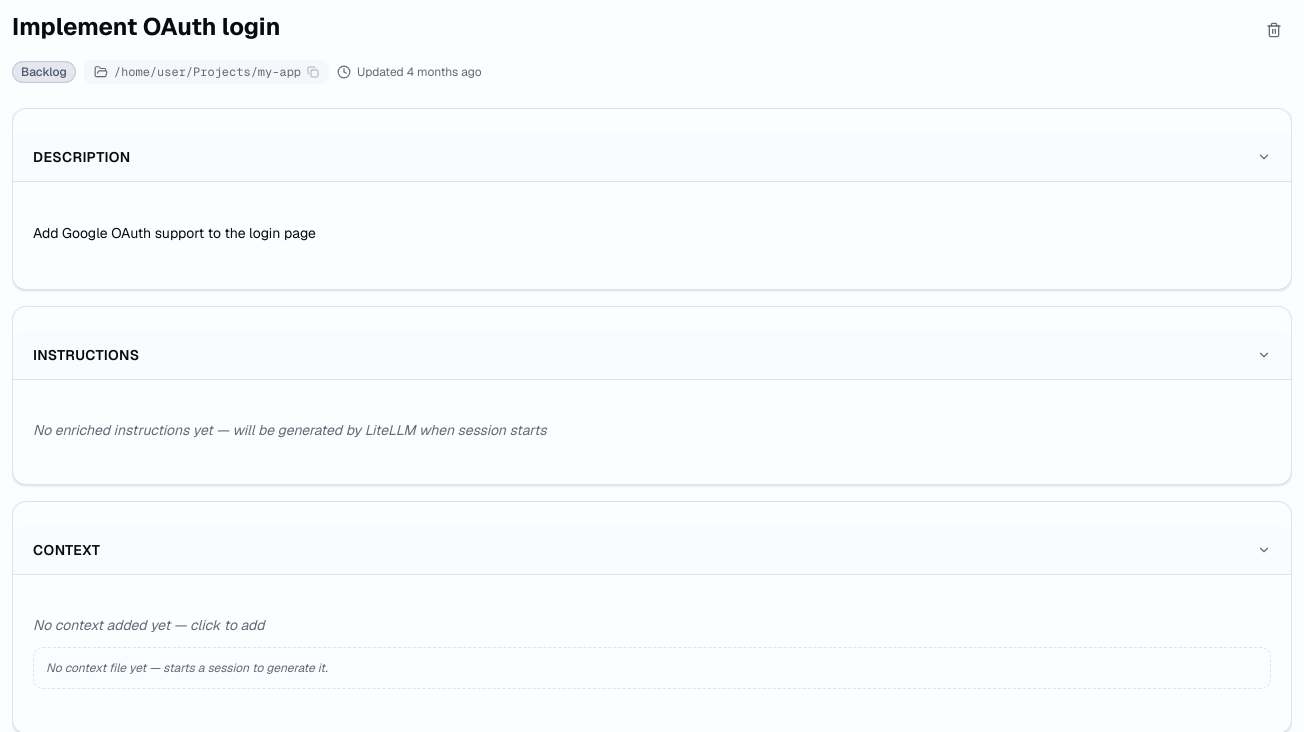
Scenario: TaskDetail › shows "Copied!" feedback after clicking copy path button
Click the button with aria-label "copy project path". click: [206, 72]
box: [84,60,329,84]
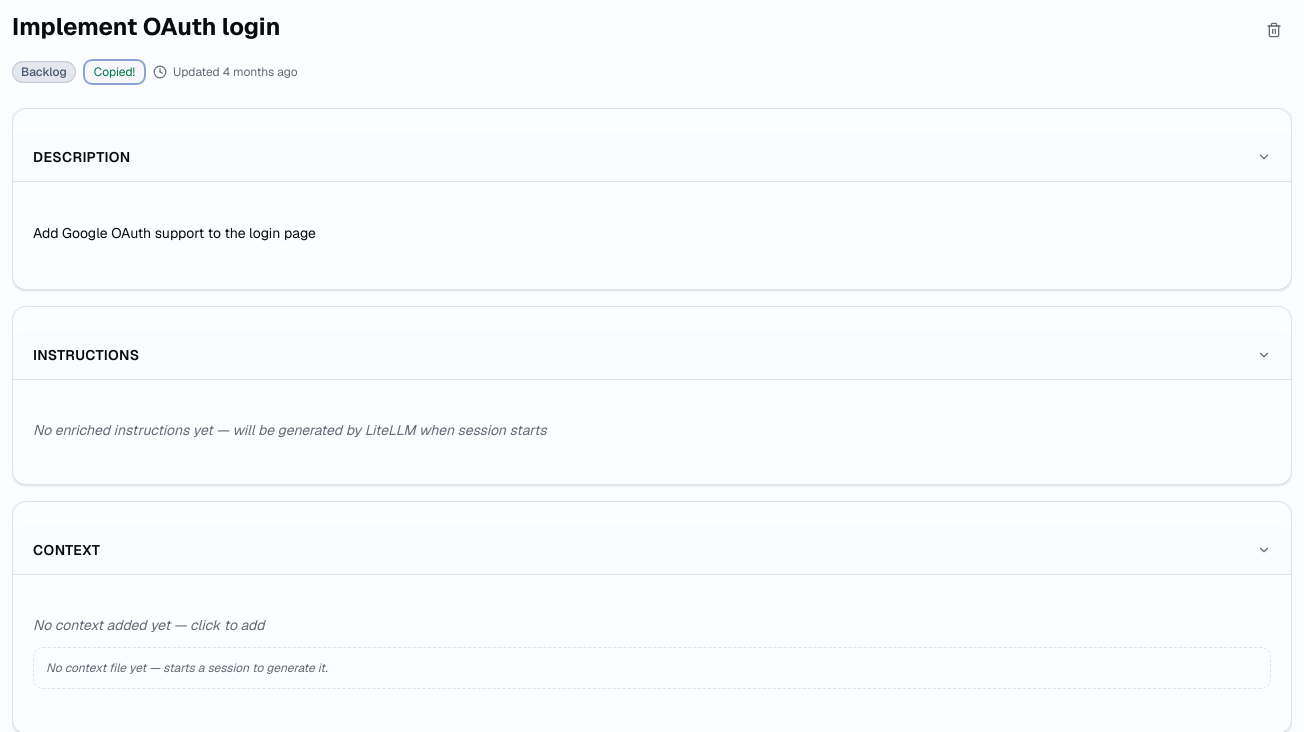
expect the text "Copied!" is shown: met, box [94,64,135,80]
